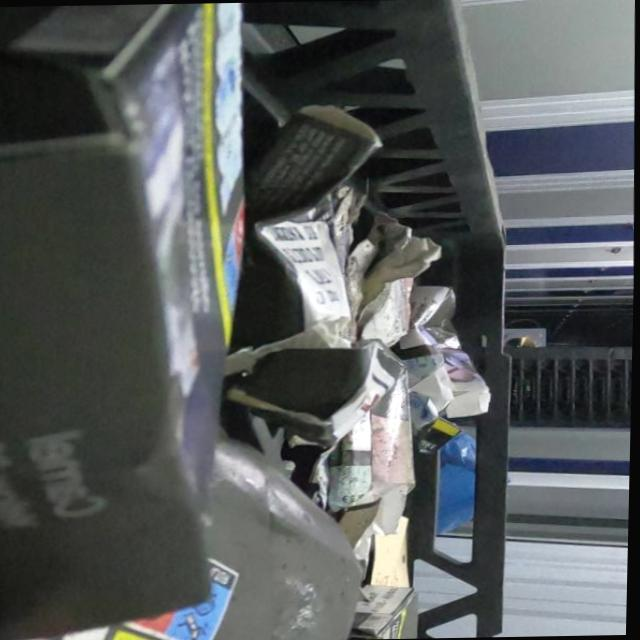Paper: (0, 1, 253, 640), (353, 581, 427, 639)
